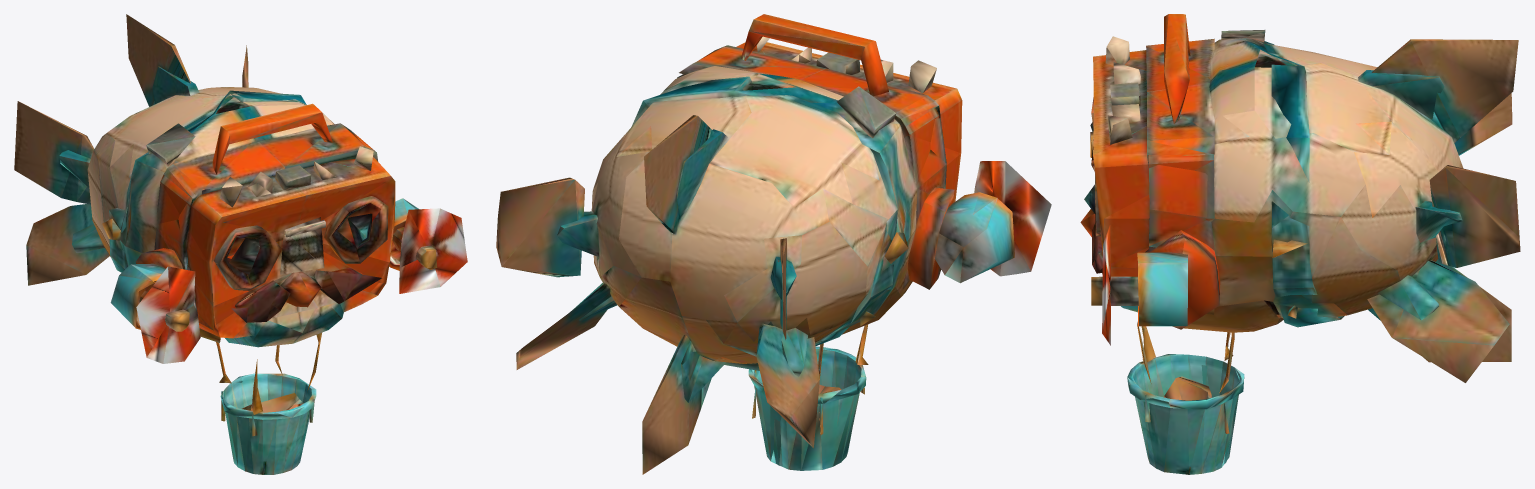
File: stamp_zeppelin.glb
3 views of the same model, side by side, from view 1: azimuth 30°, elevation 25°; view 2: azimuth 150°, elevation 25°; view 3: azimuth 270°, elevation 25° (orthographic). The views are drawn at different scales.
Bounding box in the file's own units: 0.998 × 1 × 0.9551.
1 material, 1 textured.
